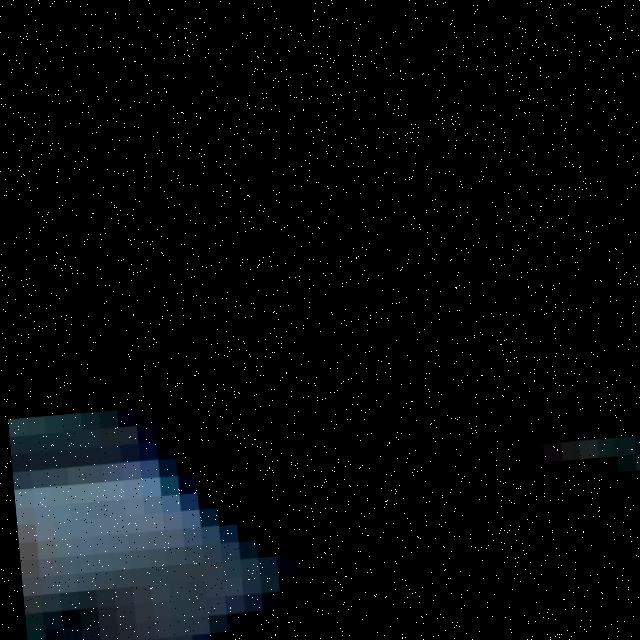Ograniczenie predkosci do 120: (113, 122, 565, 566)
